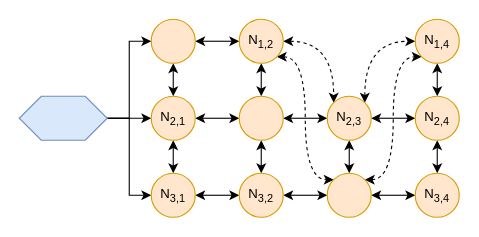
Image size: 479x237. Some labels were removed from this diagram. Here are the shapes that lost their labels. From the top down, the box of each, then its label:
(150, 18, 195, 63): N 1,1
(18, 95, 107, 140): Input
(238, 95, 283, 140): N 2,2
(326, 172, 371, 217): N 3,3
